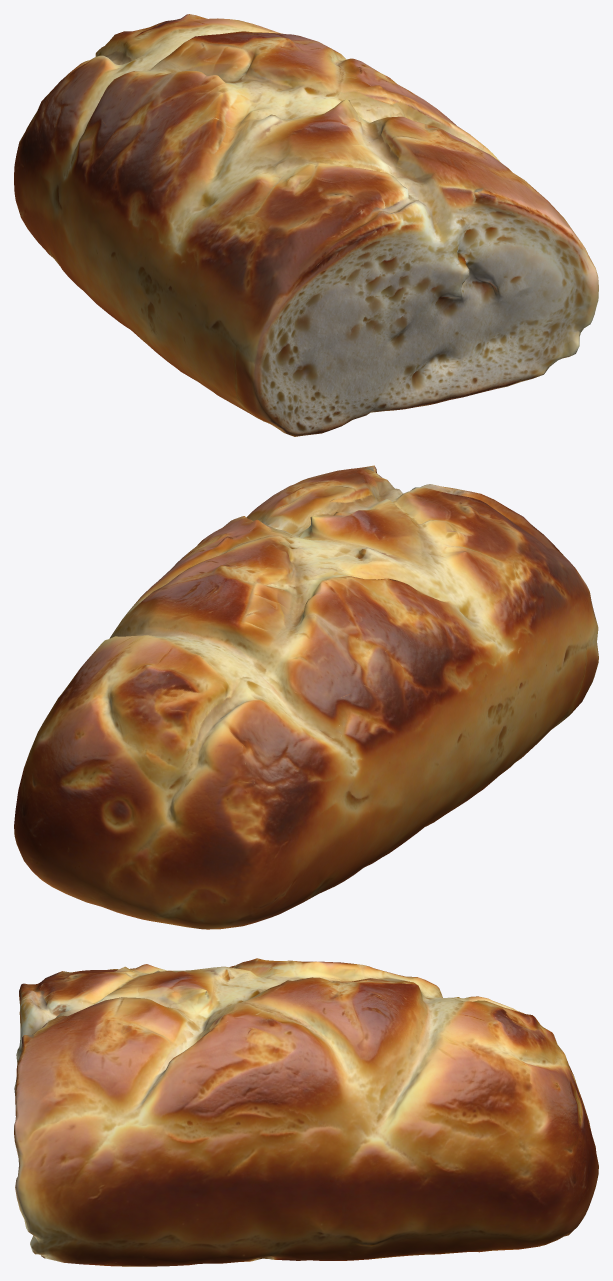
Rendered from meshy_ai_a_realistic_4hd_image_0117145710_texture.glb.
3 views of the same model, one above another, from view 1: azimuth 30°, elevation 25°; view 2: azimuth 150°, elevation 25°; view 3: azimuth 270°, elevation 25° (orthographic). The views are drawn at different scales.
Bounding box in the file's own units: 1.27 × 0.8624 × 2.
1 material, 1 textured.
